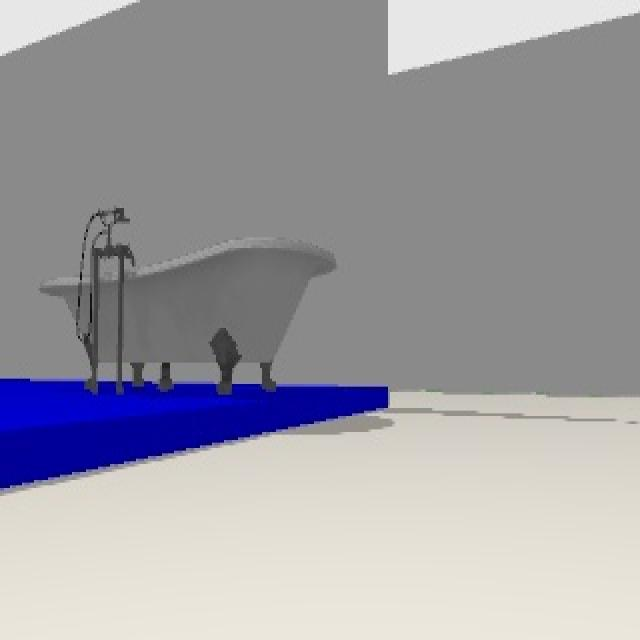bathtub: (41, 198, 346, 392)
